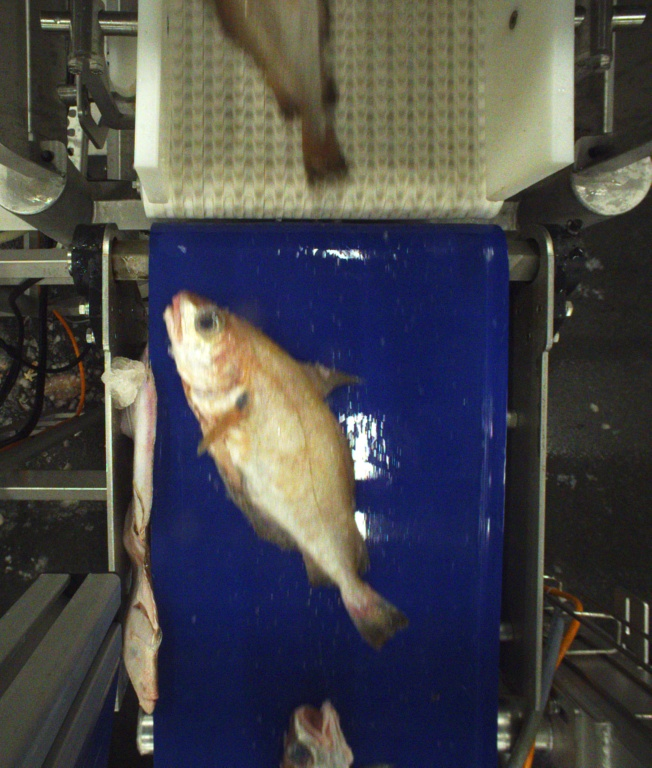BIB: (273, 700, 359, 768)
